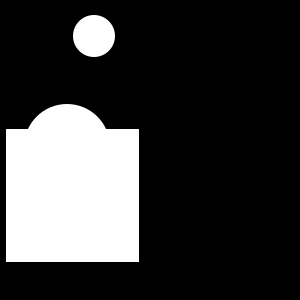circle: (6, 129, 139, 262)
rectangle: (24, 104, 110, 190), (73, 15, 115, 57)
